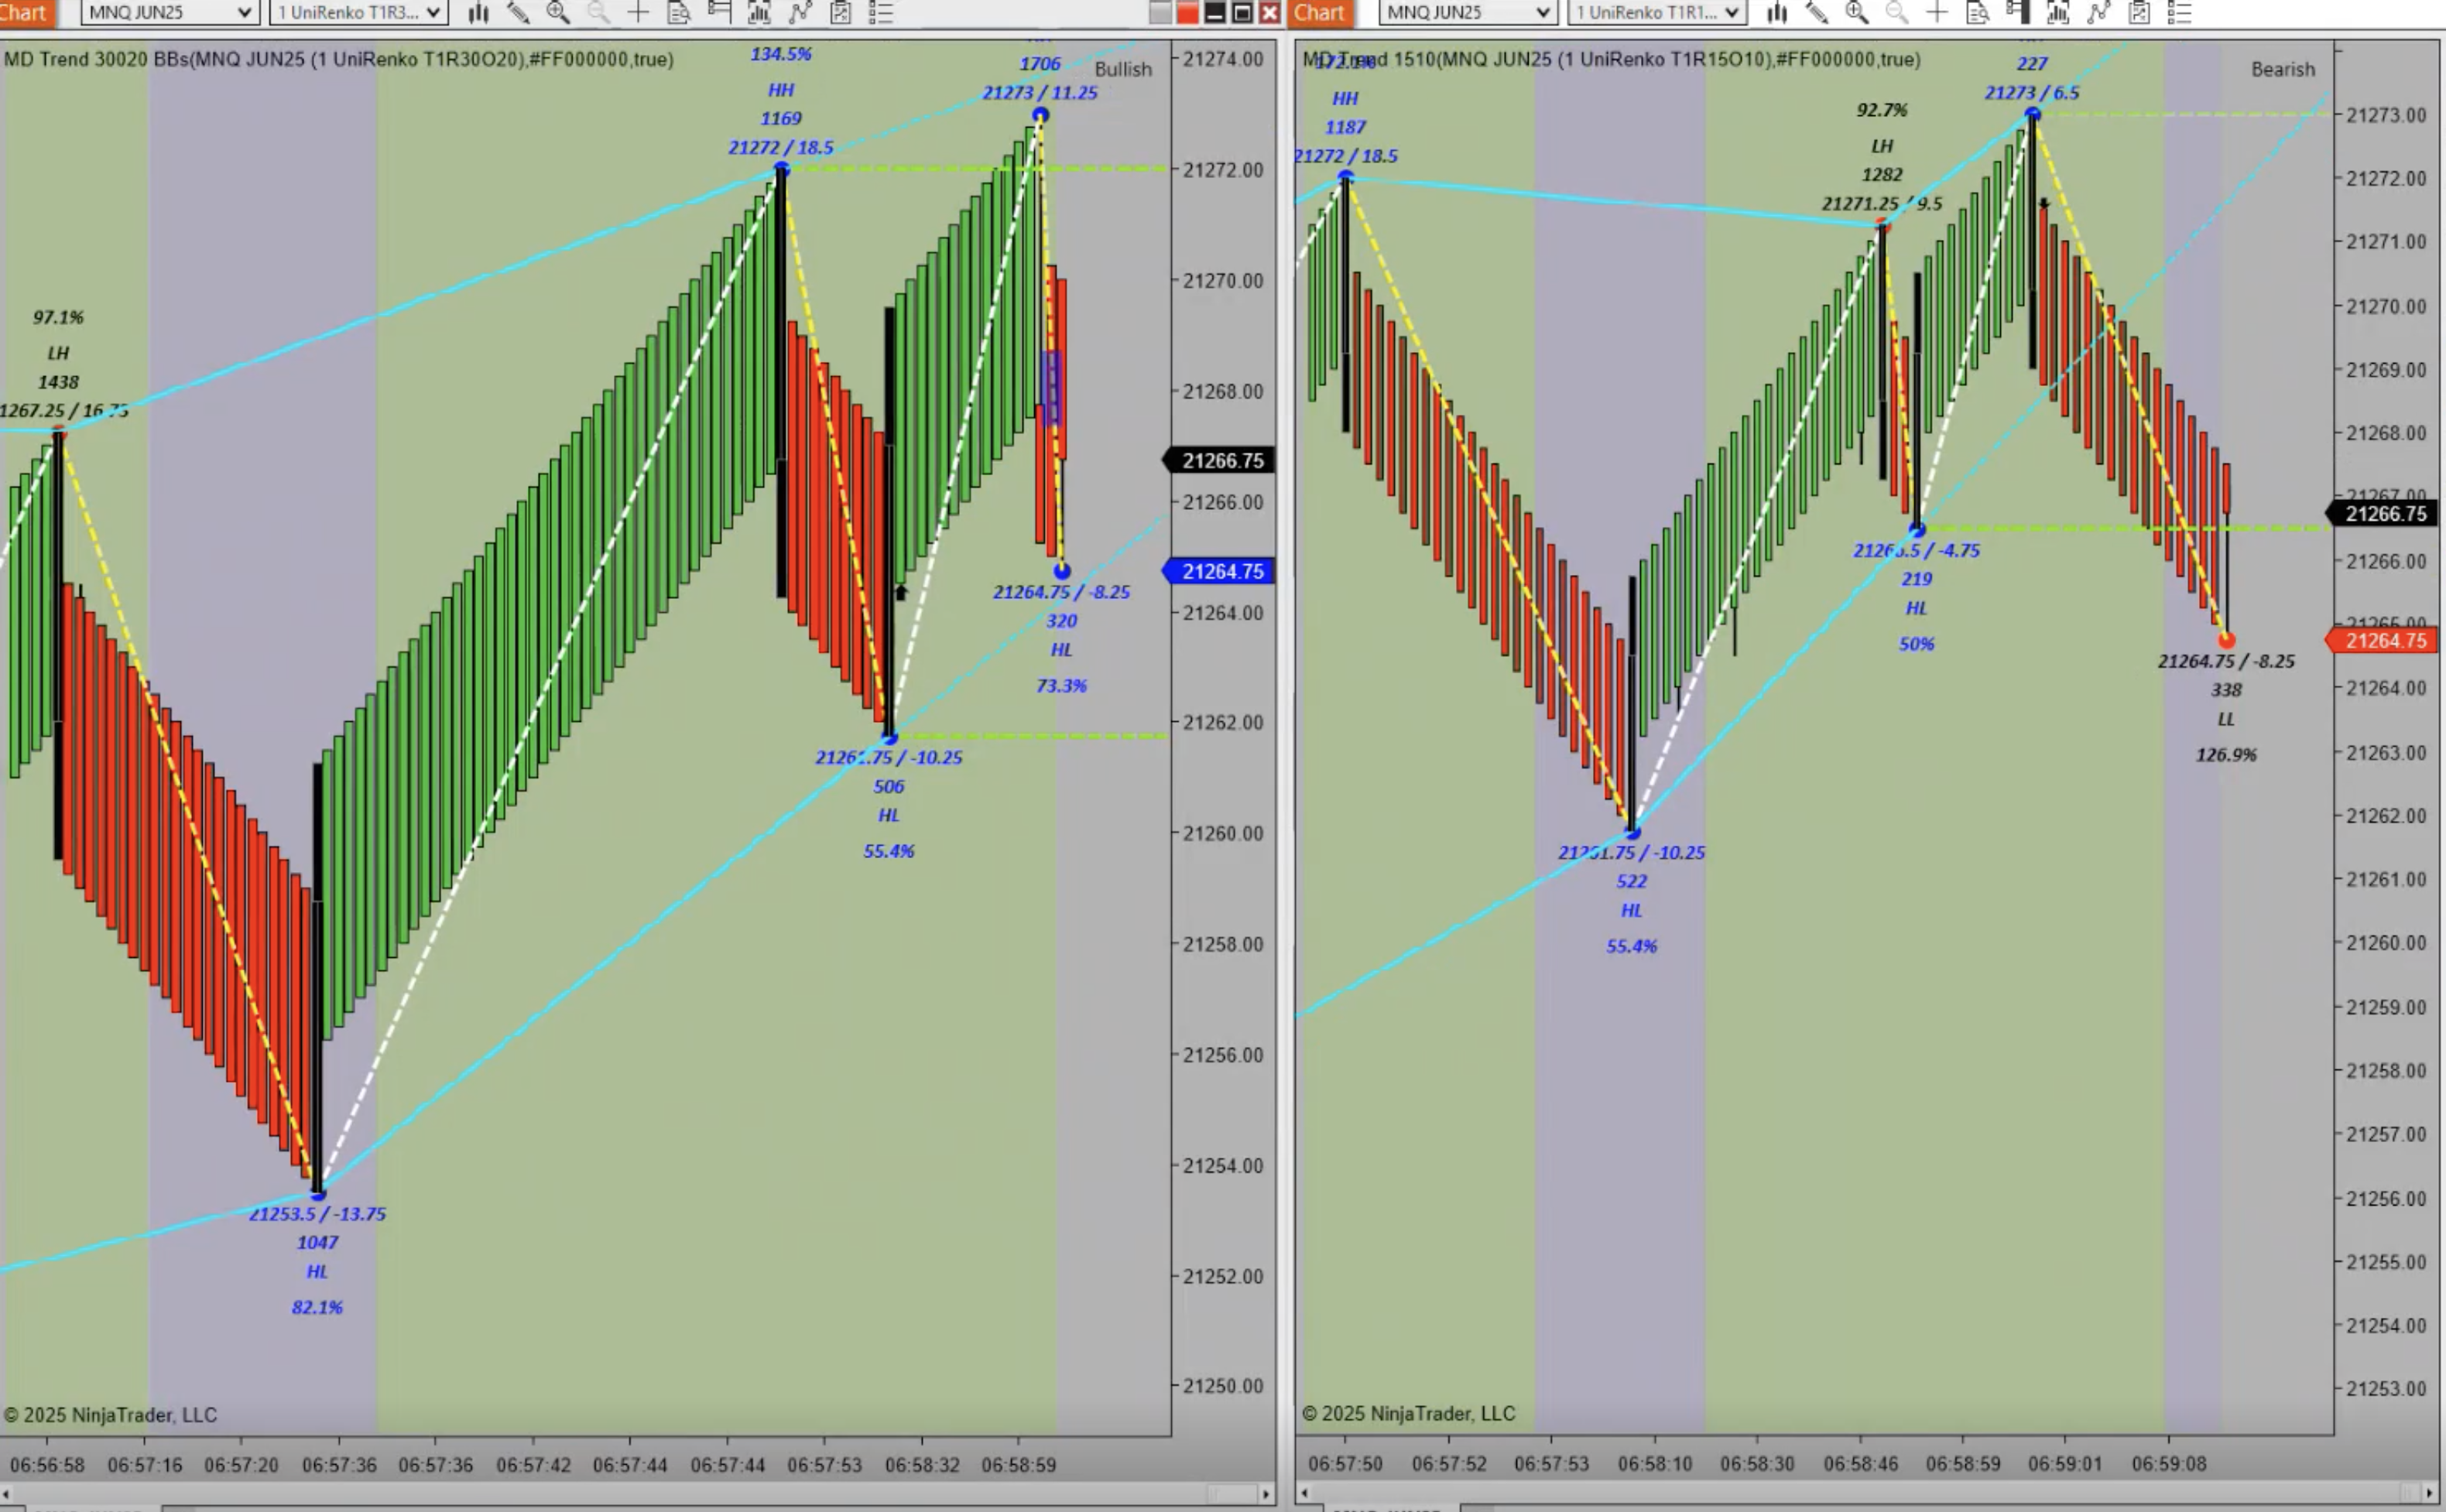candle: (52, 426, 73, 864), (774, 164, 791, 604), (309, 756, 325, 1191), (884, 304, 896, 742), (1627, 576, 1644, 835), (2028, 110, 2044, 377), (1876, 225, 1890, 487), (1342, 171, 1354, 440), (1913, 271, 1922, 536)
